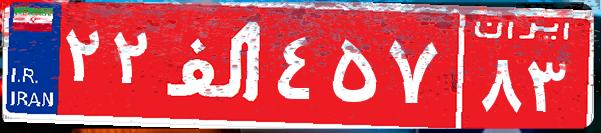2: (57, 26, 110, 107), (110, 28, 158, 105)
3: (525, 38, 570, 115)
4: (273, 28, 330, 110)
5: (330, 28, 385, 110)
7: (385, 28, 445, 110)
8: (475, 38, 525, 113)
الف: (158, 15, 273, 115)
